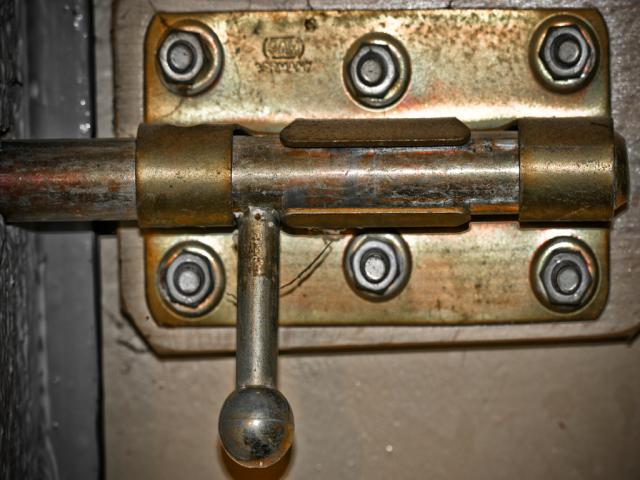Door-handle: (0, 7, 630, 470)
